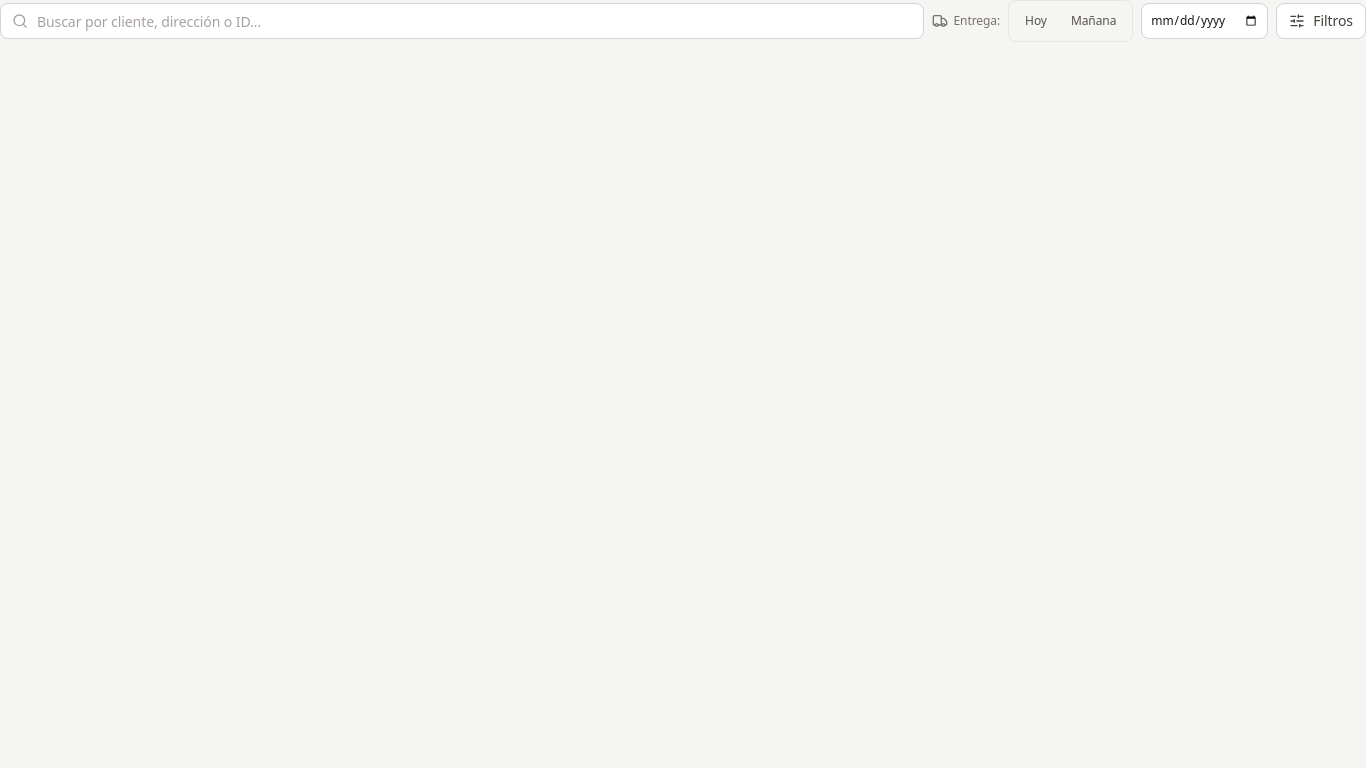
Test: PedidoFilters — bottom sheet de filtros › "Listo" cierra el bottom sheet sin tocar los filtros
Click the button with aria-label "Abrir filtros avanzados". click: (1321, 21)
box: [1276,3,1365,39]
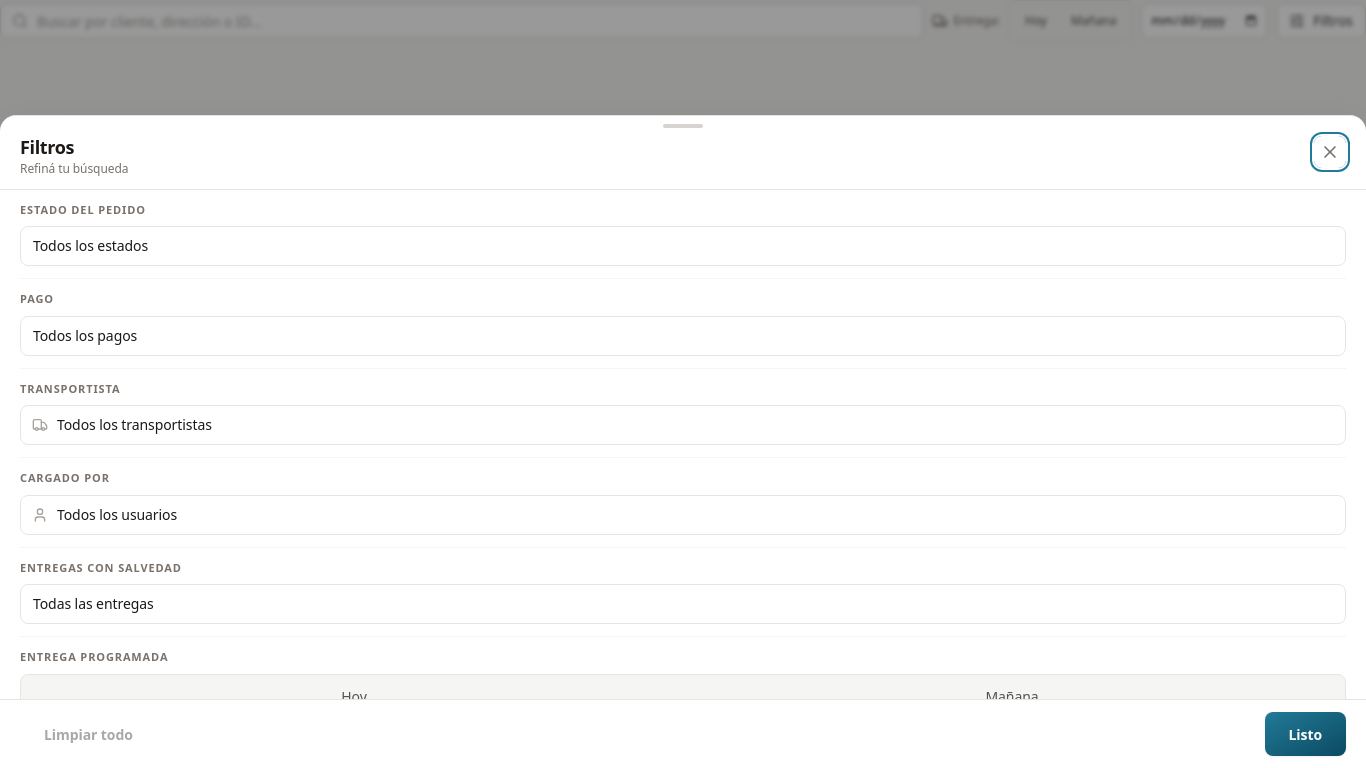
Click the button "Listo". click: (1305, 734)
box: [1264,712,1346,756]
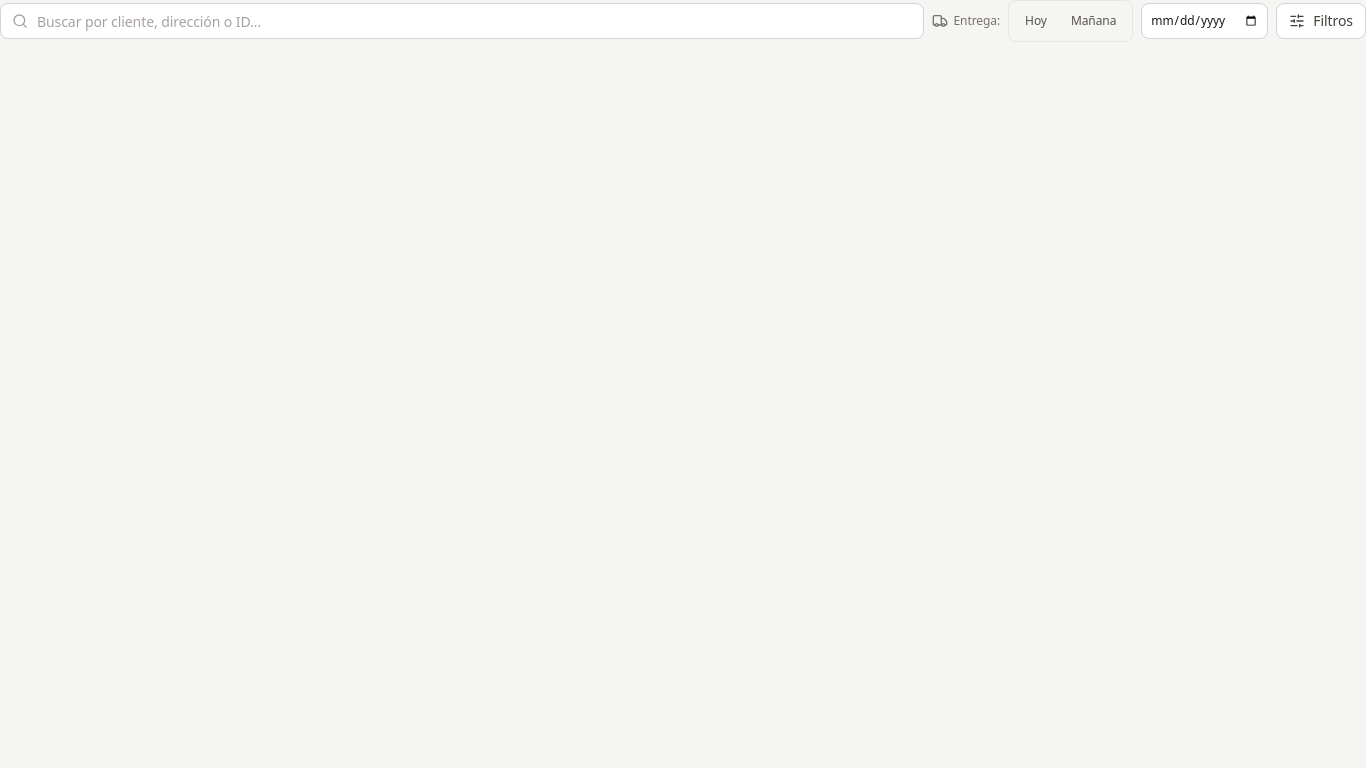
Expected: the dialog is gone
